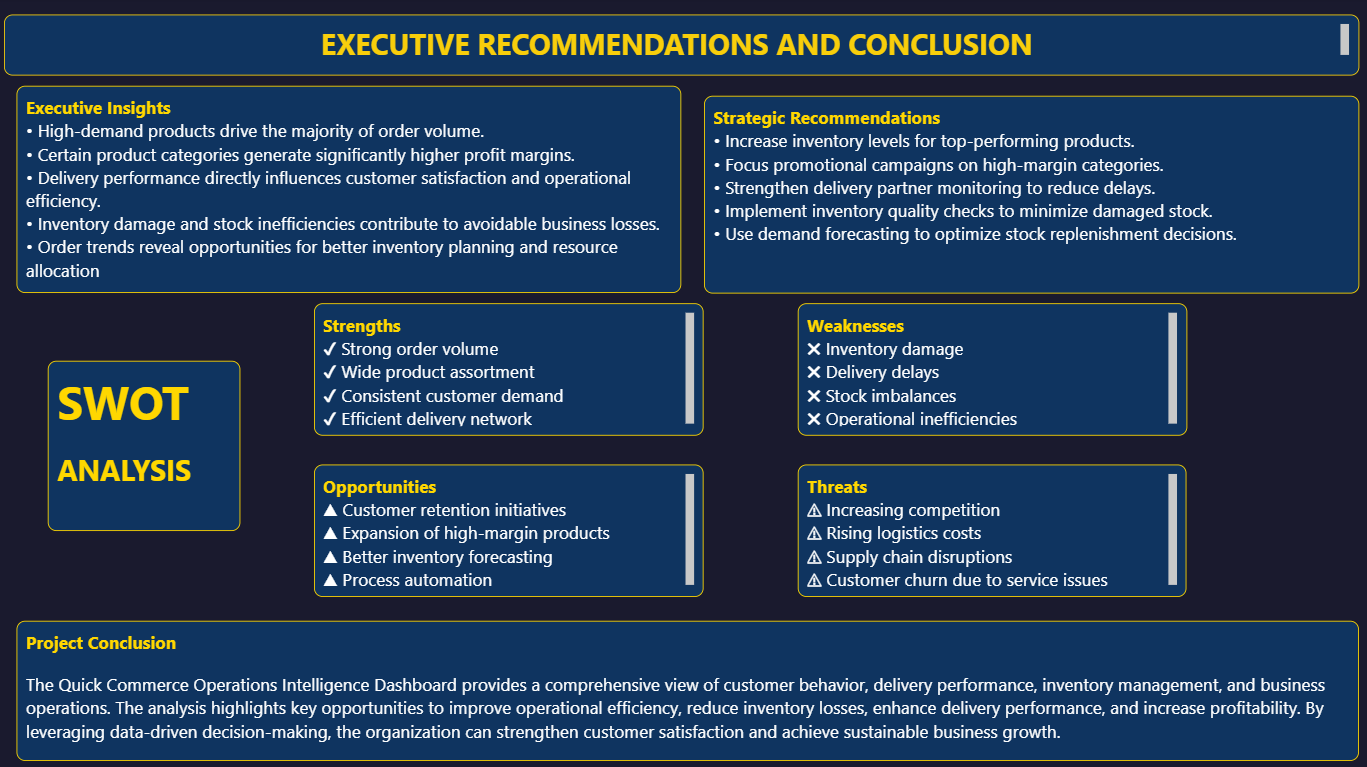

This screenshot's page, from the dashboard's own definition file:
{"tool":"powerbi","page":{"name":"Executive Recommendations & Conclusion","canvas":[1280,720],"ordinal":5},"visuals":[{"type":"textbox","box":[9.3,16.3,1260.5,57],"z":0},{"type":"textbox","box":[20.9,82.6,618.6,193],"z":1000},{"type":"textbox","box":[660.5,91.9,609.3,183.7],"z":2000},{"type":"textbox","box":[297.7,284.9,362.8,123.3],"z":3000},{"type":"textbox","box":[747.7,284.9,362,123.3],"z":4000},{"type":"textbox","box":[297.7,434.9,362.8,123.3],"z":5000},{"type":"textbox","box":[747.7,434.9,361.6,123.3],"z":6000},{"type":"textbox","box":[20.9,580.2,1248.8,130.2],"z":7000},{"type":"textbox","box":[50,338.4,179.1,158.1],"z":8000}]}

Visuals, with their boxes in screenshot pixels (x1, y1, x2, y2), scaled from the page's 1280x720 canvas onto the 1367x767 screenshot:
textbox: left=10, top=17, right=1356, bottom=78
textbox: left=22, top=88, right=683, bottom=294
textbox: left=705, top=98, right=1356, bottom=294
textbox: left=318, top=303, right=705, bottom=435
textbox: left=799, top=303, right=1185, bottom=435
textbox: left=318, top=463, right=705, bottom=595
textbox: left=799, top=463, right=1185, bottom=595
textbox: left=22, top=618, right=1356, bottom=757
textbox: left=53, top=360, right=245, bottom=529
